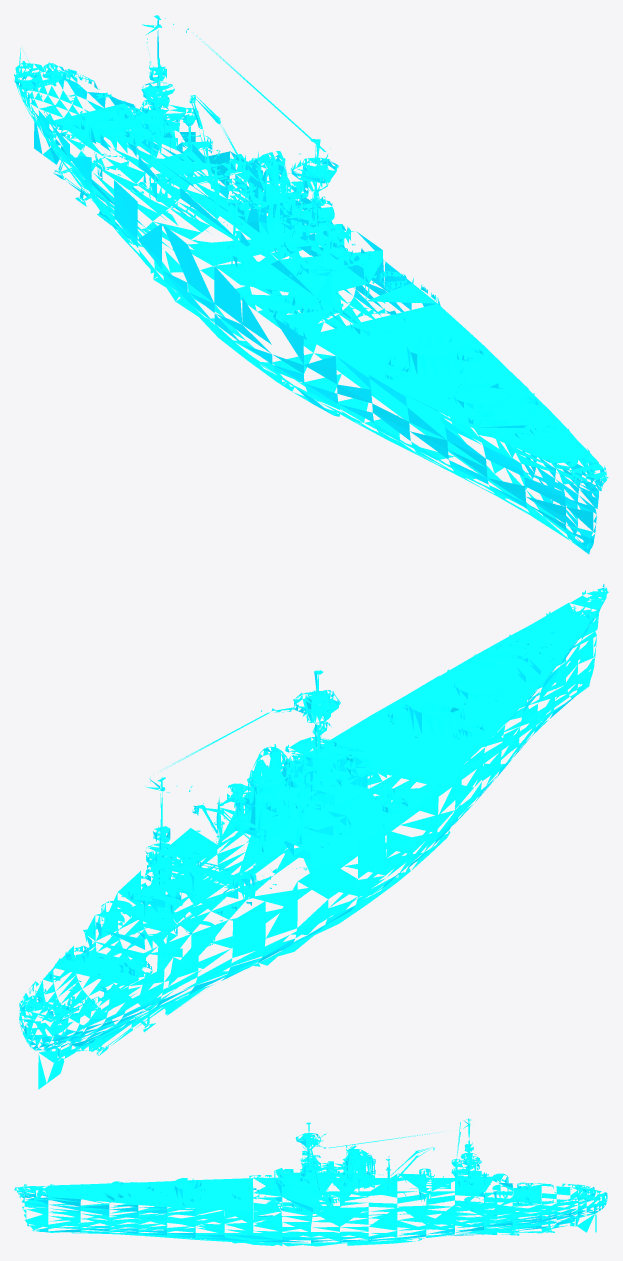
File: Marseille.glb
3 views of the same model, one above another, from view 1: azimuth 30°, elevation 25°; view 2: azimuth 150°, elevation 25°; view 3: azimuth 270°, elevation 25° (orthographic). The views are drawn at different scales.
Size of the model in its own units: 2.14 by 3.21 by 15.14.
